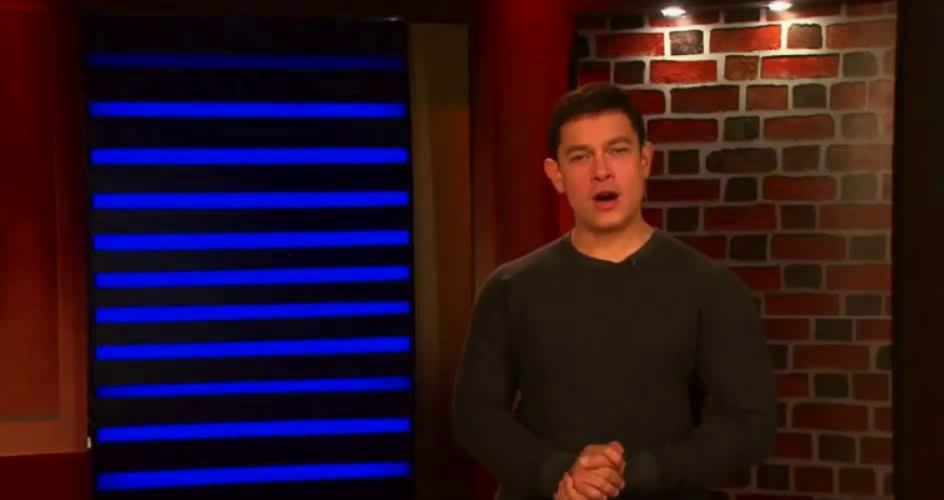fake: (556, 110, 641, 226)
